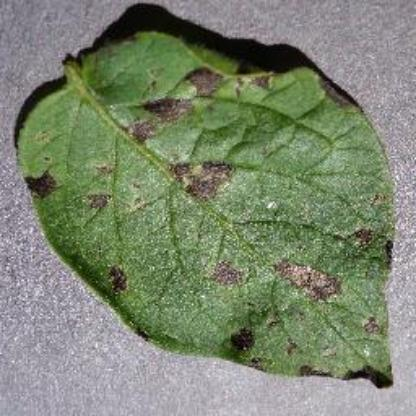Early-Blight: (17, 22, 396, 388)
